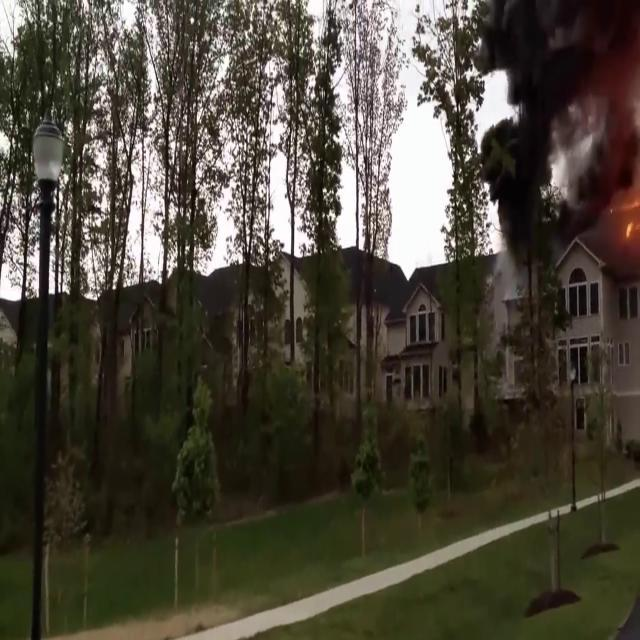Smoke: (480, 1, 640, 250)
